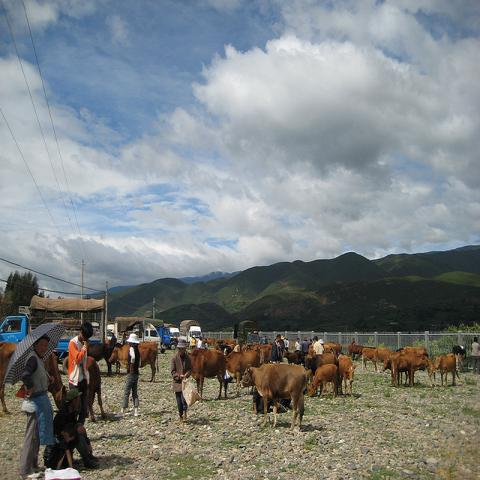truck: (0, 294, 106, 375), (115, 316, 178, 350), (180, 320, 202, 344), (143, 329, 161, 351)
